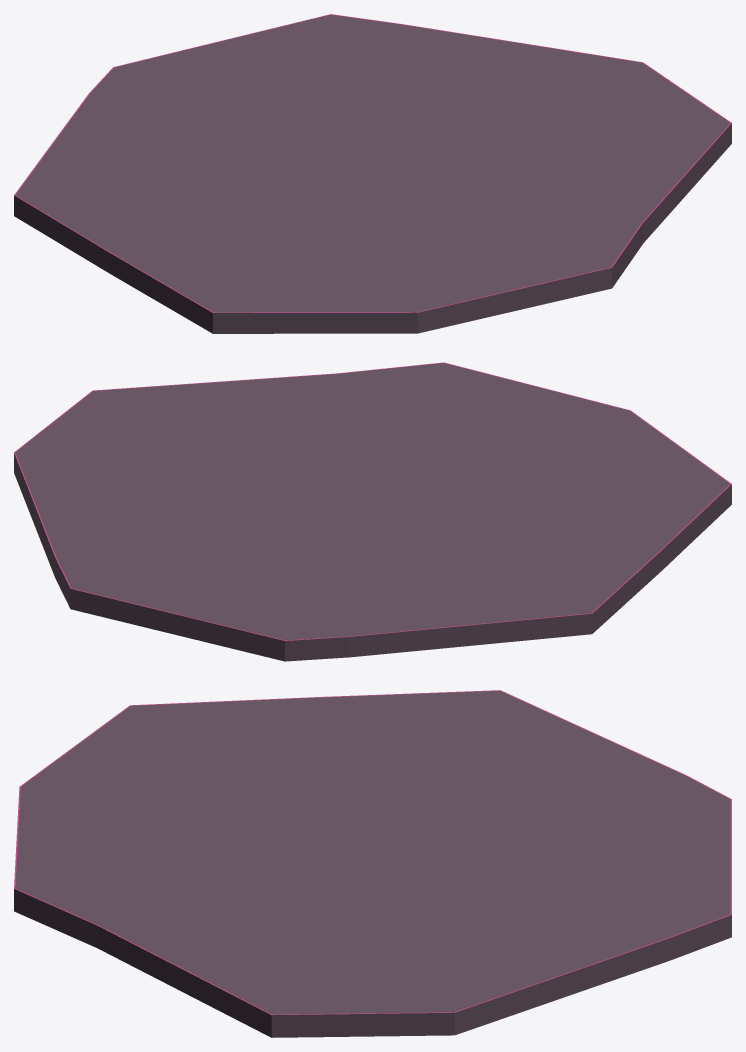
The model's file is way-1275168894.glb.
3 renders of one model, top to bottom at view 1: azimuth 30°, elevation 25°; view 2: azimuth 150°, elevation 25°; view 3: azimuth 270°, elevation 25°, orthographic. The views are drawn at different scales.
Parts seen in each view (by area): view 1: way-1275168894; view 2: way-1275168894; view 3: way-1275168894.
Part boxes in pixels (box(x1,y1,x2,y2)): way-1275168894: box(14, 14, 731, 333); way-1275168894: box(14, 362, 731, 661); way-1275168894: box(14, 690, 731, 1037).
Bounding box in the file's own units: 92.29 × 3 × 86.16.
